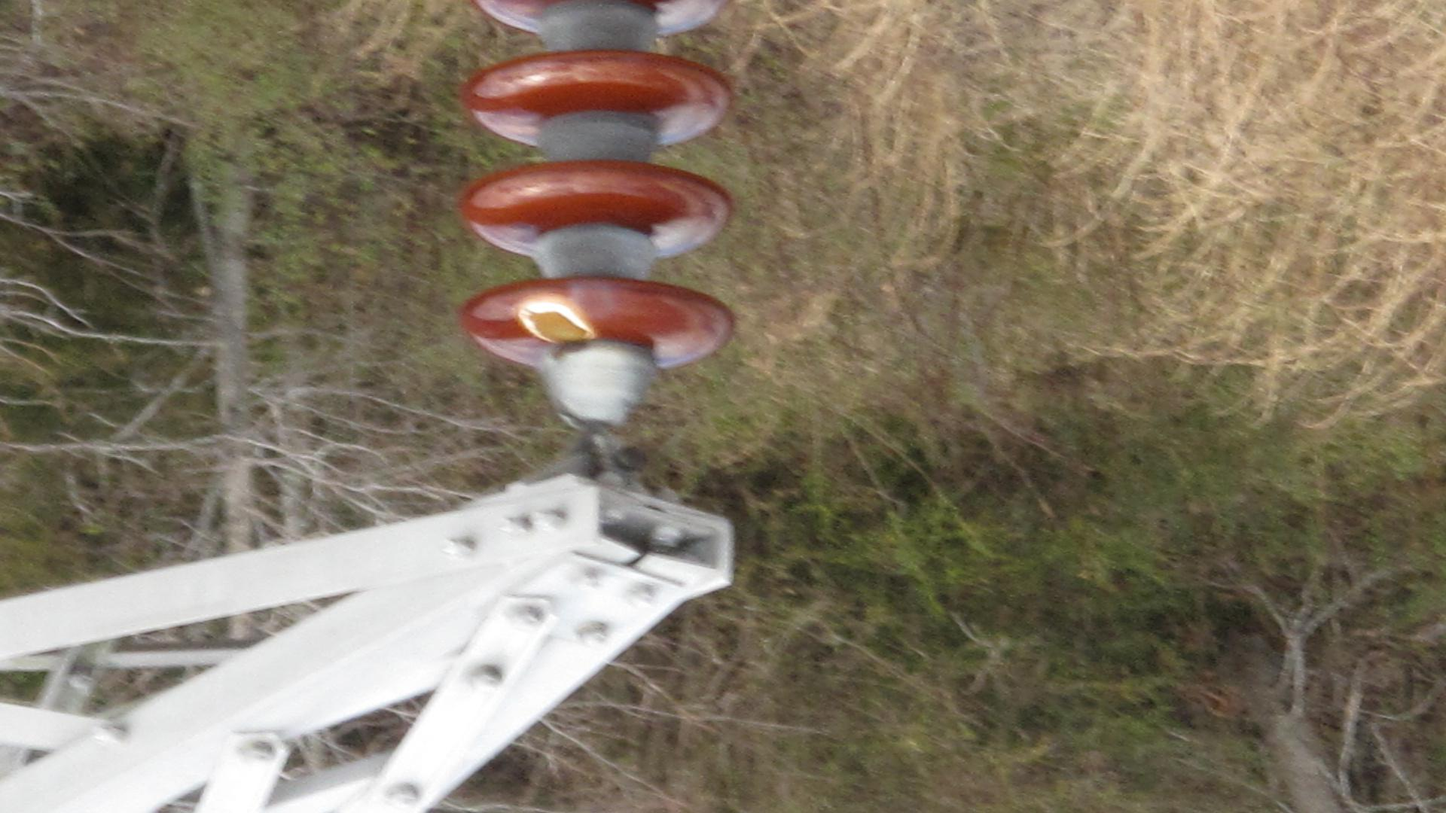insulator: (453, 1, 740, 375)
insulator_flashover: (514, 294, 595, 347)
